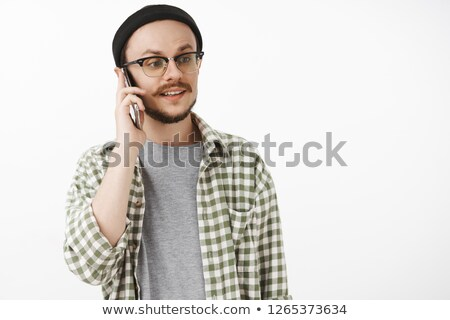phone: (114, 64, 149, 131)
talk: (110, 40, 200, 144)
